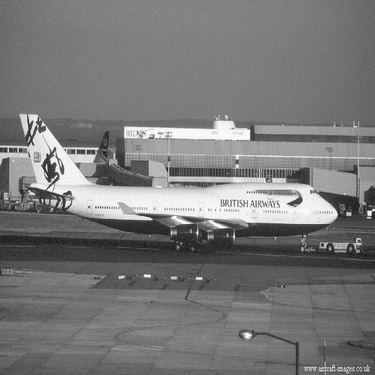airplane: (10, 97, 347, 263)
